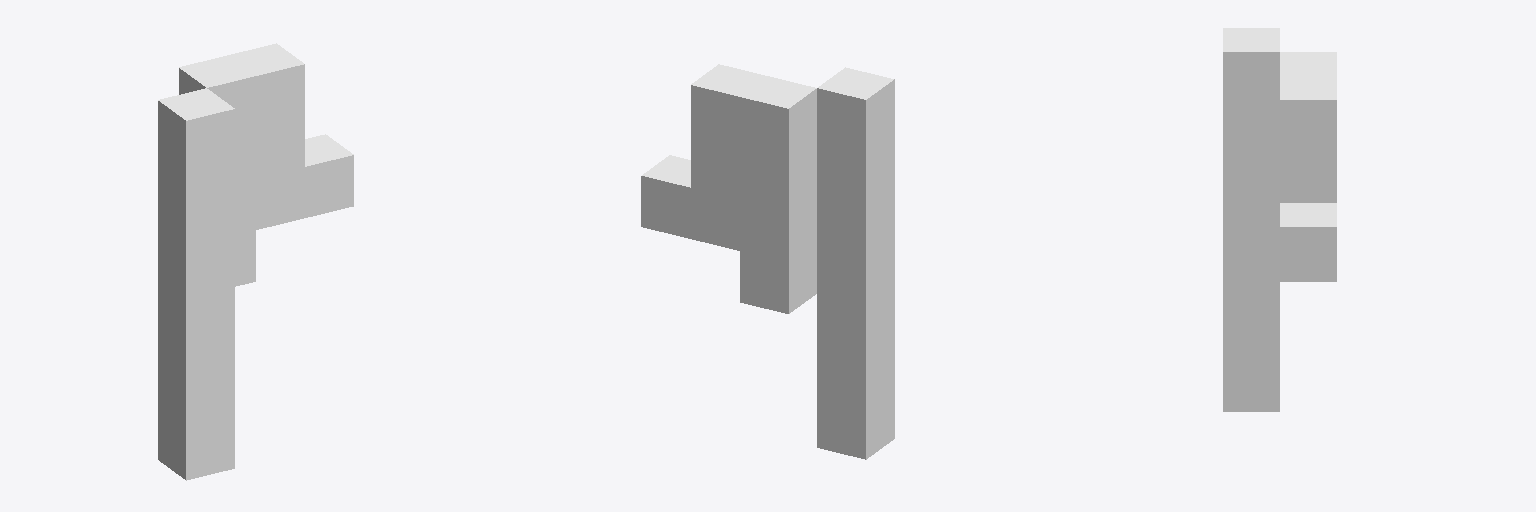
Rendered from YellowHouseParts-51.obj.
3 views of the same model, side by side, from view 1: azimuth 30°, elevation 25°; view 2: azimuth 150°, elevation 25°; view 3: azimuth 270°, elevation 25° (orthographic).
Parts seen in each view (by area): view 1: object 1; view 2: object 1; view 3: object 1.
Boxes of the visible parts, x1,y1,x2,y2 form: object 1: [158, 43, 353, 480]; object 1: [641, 64, 894, 459]; object 1: [1223, 28, 1336, 411].
Bounding box in the file's own units: 0.4 × 0.7 × 0.2.